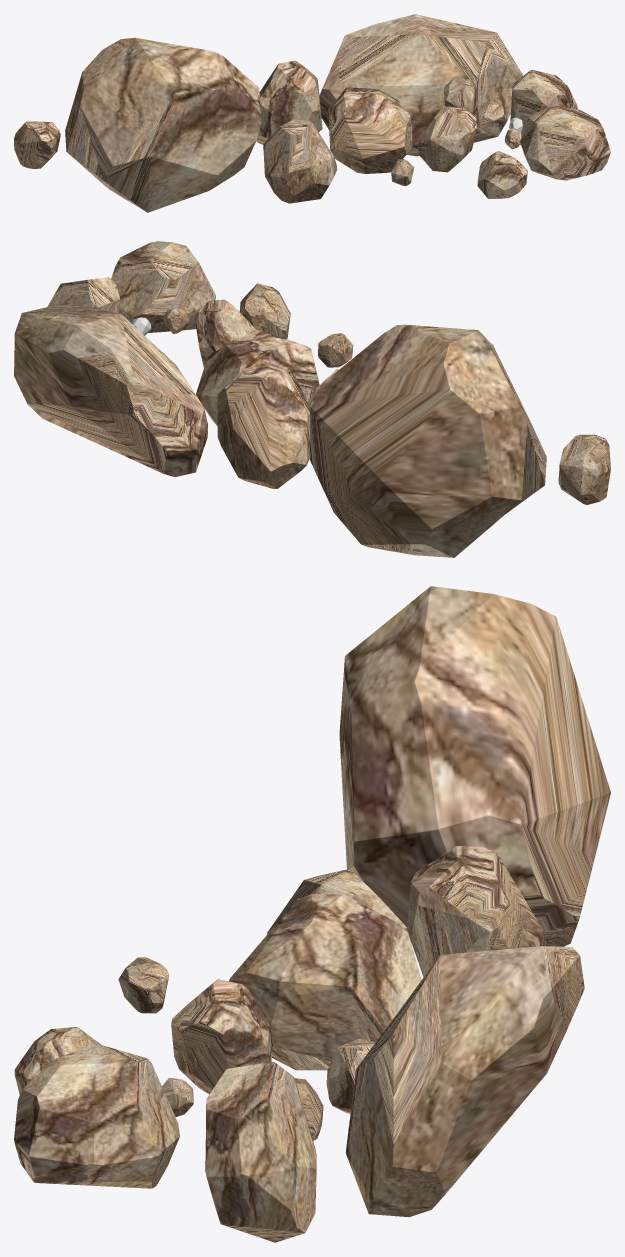
File: Beach_RocksRight.fbx
3 renders of one model, top to bottom at view 1: azimuth 30°, elevation 25°; view 2: azimuth 150°, elevation 25°; view 3: azimuth 270°, elevation 25°, orthographic. The views are drawn at different scales.
Parts seen in each view (by area): view 1: Rock8, Rock10, Rock5, Rock1, Rock13, Rock9, Rock4, Rock2, Rock11, Rock14, Rock6, Rock7 (+1 smaller); view 2: Rock8, Rock10, Rock9, Rock1, Rock5, Rock14, Rock4, Rock11, Rock2, Rock12, Rock3; view 3: Rock8, Rock10, Rock5, Rock1, Rock2, Rock9, Rock4, Rock13, Rock11, Rock12, Rock6, Rock7 (+1 smaller).
Boxes of the visible parts, box(x1,y1,x2,y2) form: Rock8: box(65, 37, 261, 212); Rock10: box(319, 14, 522, 156); Rock5: box(328, 87, 412, 173); Rock1: box(520, 105, 610, 180); Rock13: box(263, 119, 337, 203); Rock9: box(256, 60, 322, 144); Rock4: box(417, 106, 476, 172); Rock2: box(510, 69, 577, 144); Rock11: box(477, 151, 527, 198); Rock14: box(14, 121, 60, 168); Rock6: box(444, 77, 476, 113); Rock7: box(472, 101, 505, 135); Rock8: box(309, 324, 546, 557); Rock10: box(14, 302, 207, 477); Rock9: box(217, 364, 310, 488); Rock1: box(111, 241, 215, 332); Rock5: box(196, 329, 319, 425); Rock14: box(558, 434, 610, 504); Rock4: box(194, 299, 255, 367); Rock11: box(239, 283, 290, 338); Rock2: box(47, 277, 120, 313); Rock12: box(318, 333, 353, 367); Rock3: box(163, 308, 188, 333); Rock8: box(339, 586, 610, 946); Rock10: box(345, 946, 584, 1217); Rock5: box(229, 894, 421, 1070); Rock1: box(14, 1042, 179, 1188); Rock2: box(205, 1061, 316, 1242); Rock9: box(407, 846, 546, 977); Rock4: box(171, 979, 272, 1094); Rock13: box(267, 869, 411, 942); Rock11: box(14, 1027, 100, 1095); Rock12: box(118, 957, 169, 1013); Rock6: box(326, 1038, 375, 1113); Rock7: box(295, 1078, 323, 1141).
Size of the model in its own units: 4358 by 1406 by 2313.
